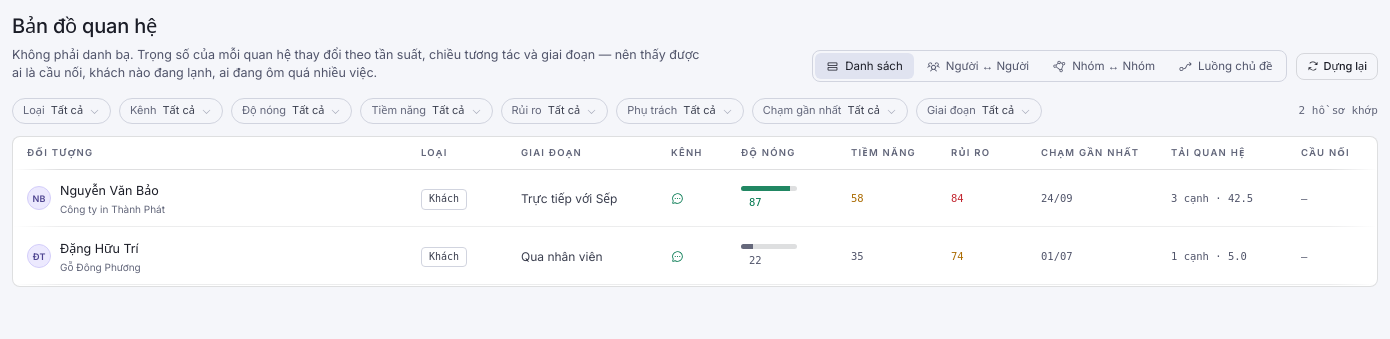
Bản đồ quan hệ › Dựng lại gọi POST /graph/recompute và hiện số cạnh vừa tính
Expected: the link "Nguyễn Văn Bảo" is shown, [60,183,159,198]
Click the button "Dựng lại": (1337, 66) [1296,53,1378,80]
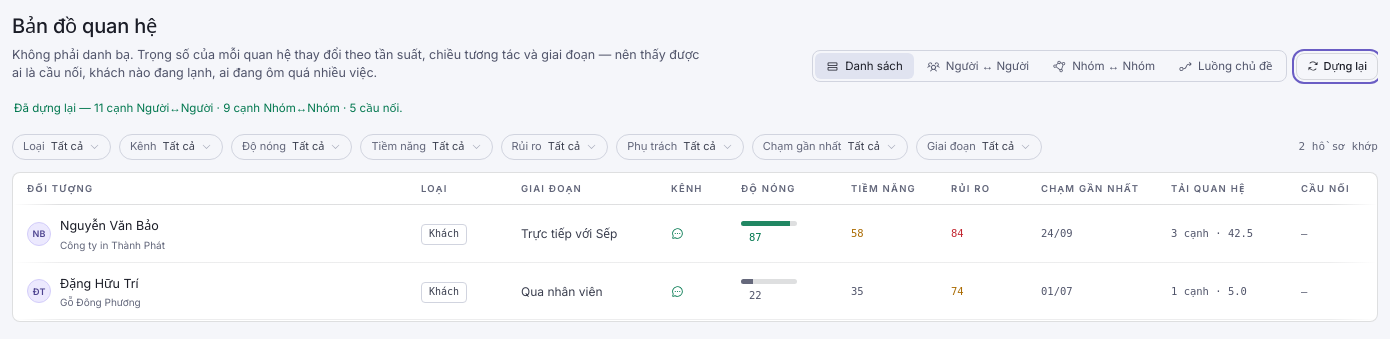
Now the text "Đã dựng lại — 11 cạnh Người↔Người · 9 cạnh Nhóm↔Nhóm · 5 cầu nối." is shown, box [14,101,402,115]
